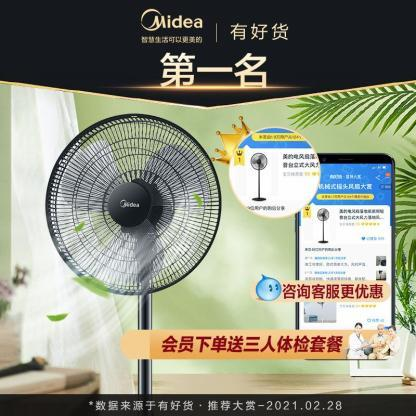fan: (32, 88, 235, 307)
